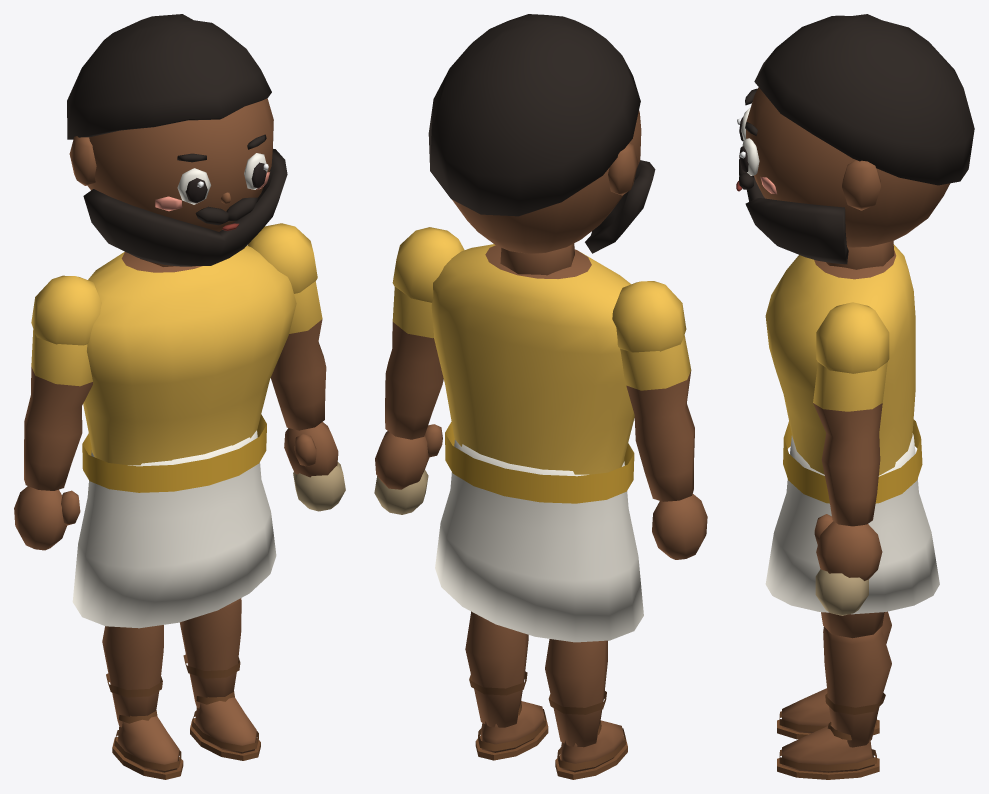
File: haendler.glb
The picture shows the model from 3 angles, left to right: view 1: azimuth 30°, elevation 25°; view 2: azimuth 150°, elevation 25°; view 3: azimuth 270°, elevation 25°; orthographic projection. The views are drawn at different scales.
Parts seen in each view (by area): view 1: rumpf, huefte, haare, armL, kopf, armR, bart, knieL, knieR, itemR, augeL, augeR; view 2: rumpf, haare, huefte, armL, armR, kopf, knieL, knieR, bart, itemR; view 3: haare, rumpf, armR, kopf, huefte, knieR, bart, knieL, itemR, beinR, augeR.
Part boxes in pixels (x1,y1,x2,y2): rumpf: (82, 245, 296, 492); huefte: (72, 430, 276, 628); haare: (67, 14, 271, 139); armL: (14, 275, 101, 550); kopf: (69, 98, 273, 266); armR: (247, 223, 338, 477); bart: (83, 149, 287, 266); knieL: (102, 625, 183, 779); knieR: (180, 598, 260, 760); itemR: (293, 462, 345, 511); augeL: (177, 168, 210, 204); augeR: (244, 153, 268, 189); rumpf: (431, 244, 634, 503); haare: (428, 14, 640, 216); huefte: (435, 440, 643, 642); armL: (612, 281, 707, 559); armR: (375, 227, 464, 489); kopf: (452, 110, 641, 275); knieL: (545, 639, 627, 779); knieR: (465, 611, 548, 760); bart: (585, 160, 655, 253); itemR: (374, 470, 428, 514); haare: (754, 14, 974, 185); rumpf: (765, 244, 922, 503); armR: (813, 302, 889, 580); kopf: (746, 87, 950, 269); huefte: (765, 433, 939, 614); knieR: (777, 627, 891, 779); bart: (739, 159, 848, 264); knieL: (777, 611, 891, 739); itemR: (815, 569, 868, 615); beinR: (821, 612, 884, 638); augeR: (739, 138, 759, 175).
Bounding box in the file's own units: 1.08 × 2.3 × 0.6837.
